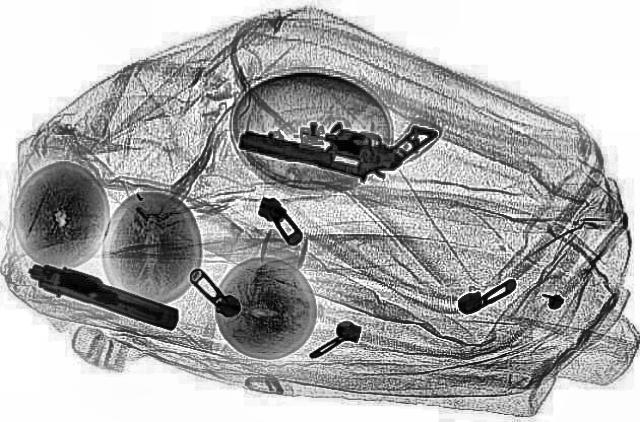Gun: (231, 88, 439, 188), (14, 258, 192, 330)
